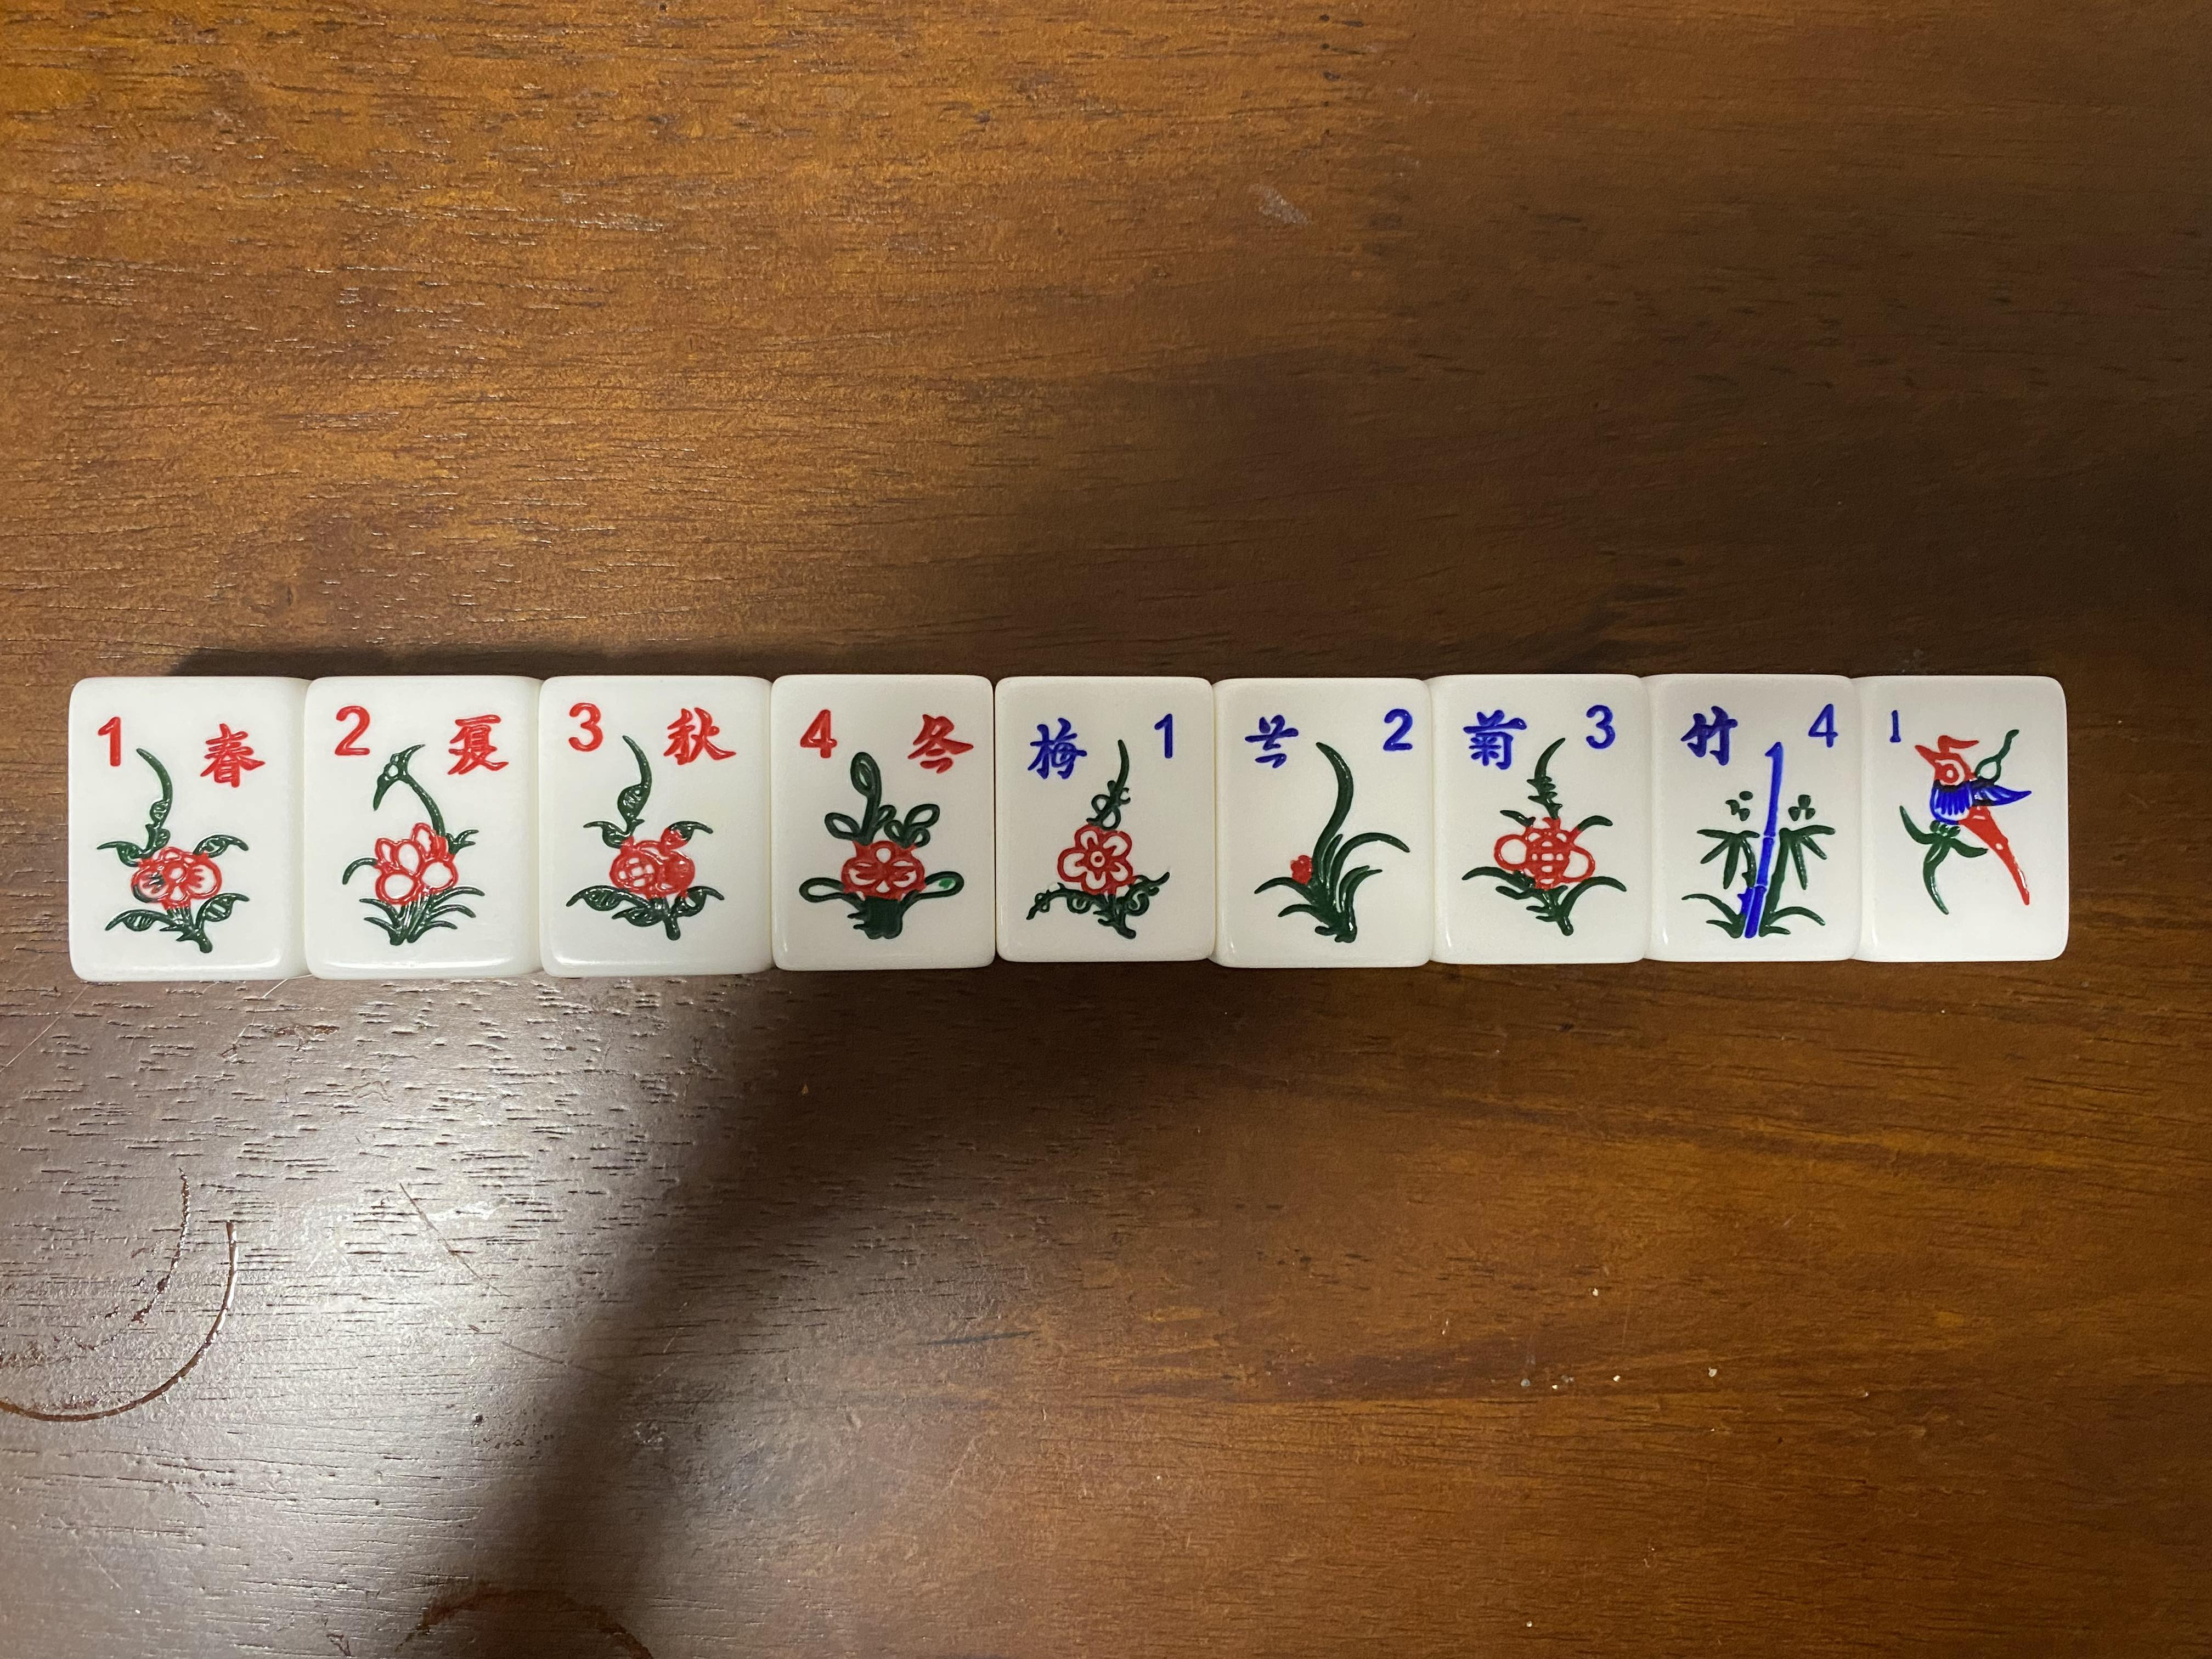bamboo-one: (1860, 676, 2067, 962)
flower-blue_four: (1649, 674, 1864, 964)
flower-blue_one: (993, 676, 1216, 960)
flower-blue_three: (1430, 674, 1649, 964)
flower-blue_two: (1214, 678, 1432, 967)
flower-red_four: (768, 674, 996, 971)
flower-red_one: (68, 673, 305, 976)
flower-red_three: (536, 676, 772, 978)
flower-red_two: (303, 676, 538, 978)
